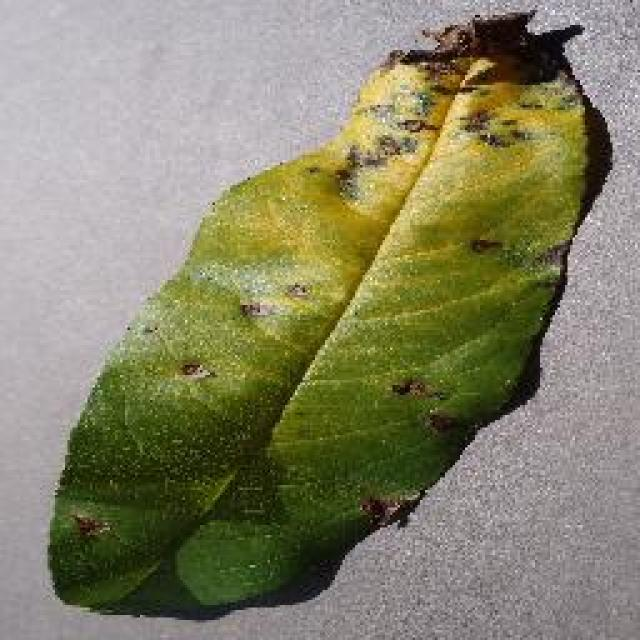Peach_Bacterial_Spot: (305, 0, 597, 325)
